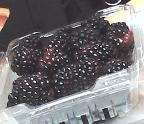berry: (53, 63, 94, 98), (13, 45, 43, 77), (38, 46, 70, 75), (74, 42, 117, 63), (8, 86, 49, 108), (69, 27, 105, 50), (14, 71, 53, 91), (46, 28, 73, 55), (107, 25, 134, 51), (81, 18, 112, 34), (103, 59, 130, 75), (79, 60, 104, 75), (23, 34, 43, 49)
